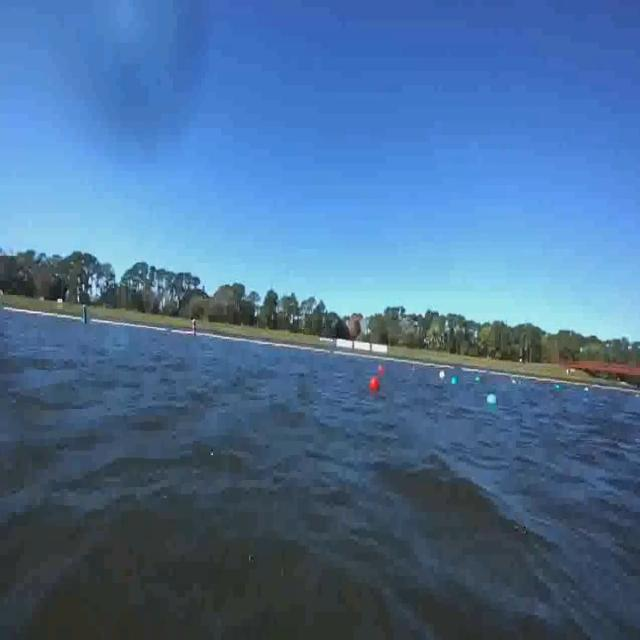green-buoy: (487, 392, 498, 407), (451, 375, 458, 387)
red-buoy: (369, 377, 379, 394), (379, 364, 386, 374)
yellow-buoy: (439, 369, 445, 381)
